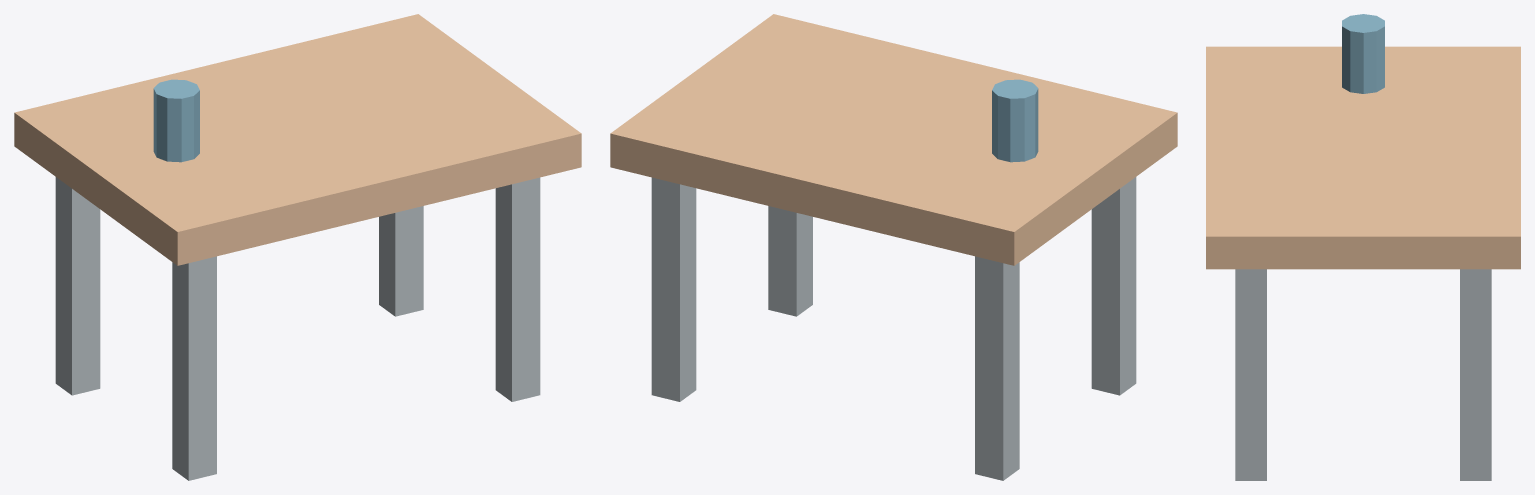
The model's file is lab_bench.glb.
3 views of the same model, side by side, from view 1: azimuth 30°, elevation 25°; view 2: azimuth 150°, elevation 25°; view 3: azimuth 270°, elevation 25° (orthographic). The views are drawn at different scales.
Size of the model in its own units: 1 by 0.78 by 0.7.
